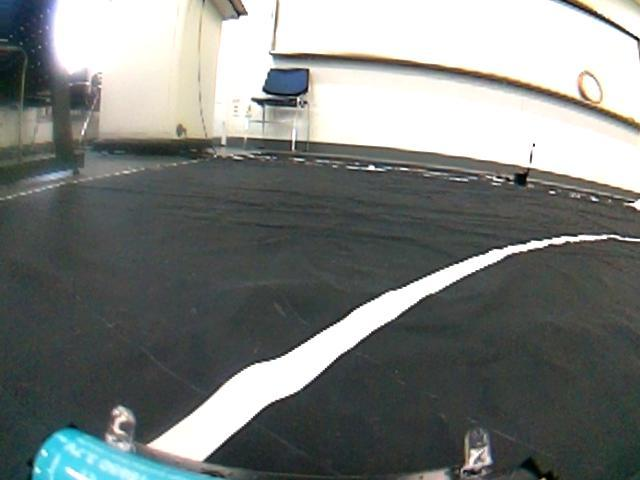right: (4, 219, 639, 480)
